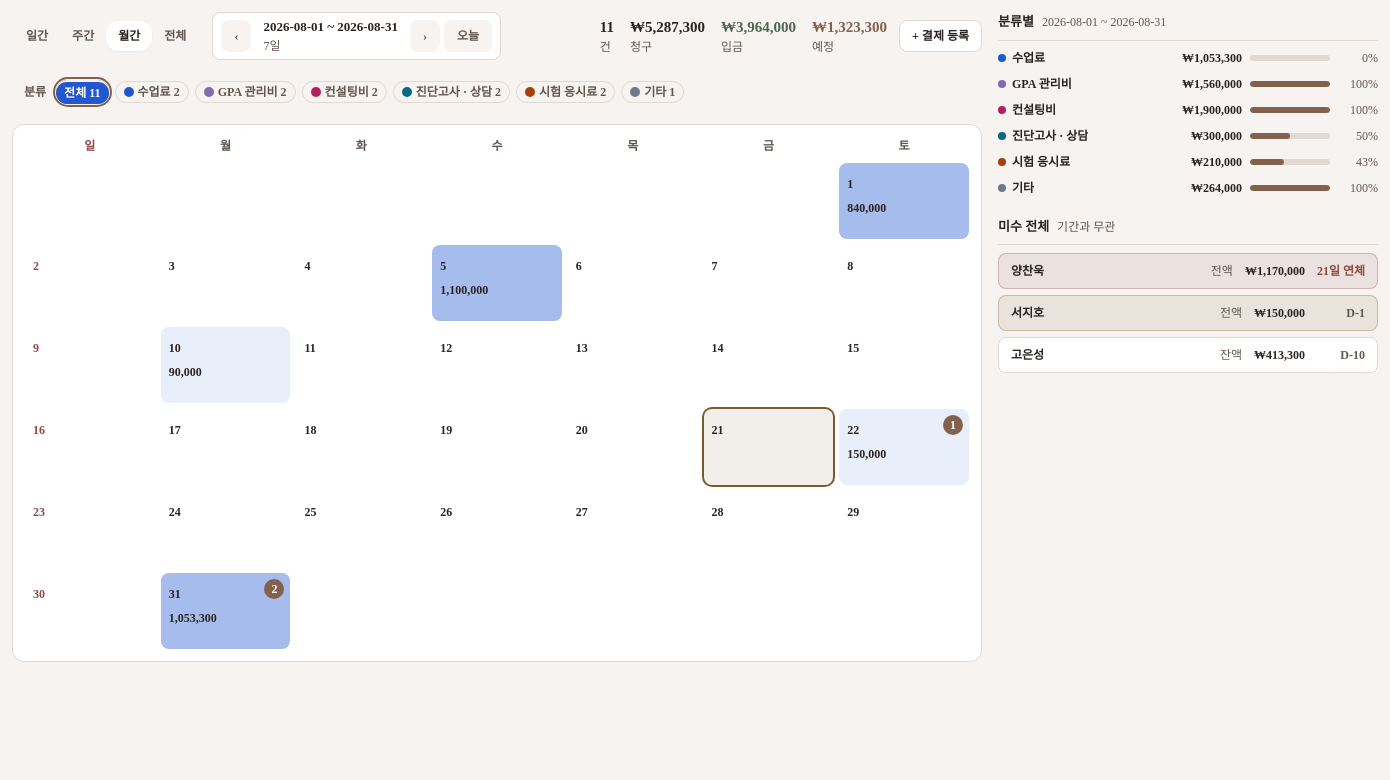
Scenario: ‹ › 오늘 · 일간/주간/전체는 기간만 바꿔 다시 묻는다 — 전체는 달력 없이 합계만 (55-01)
This screenshot has width=1390, height=780.
Click the button named "다음 기간": (425, 36) left=410, top=20, right=440, bottom=52
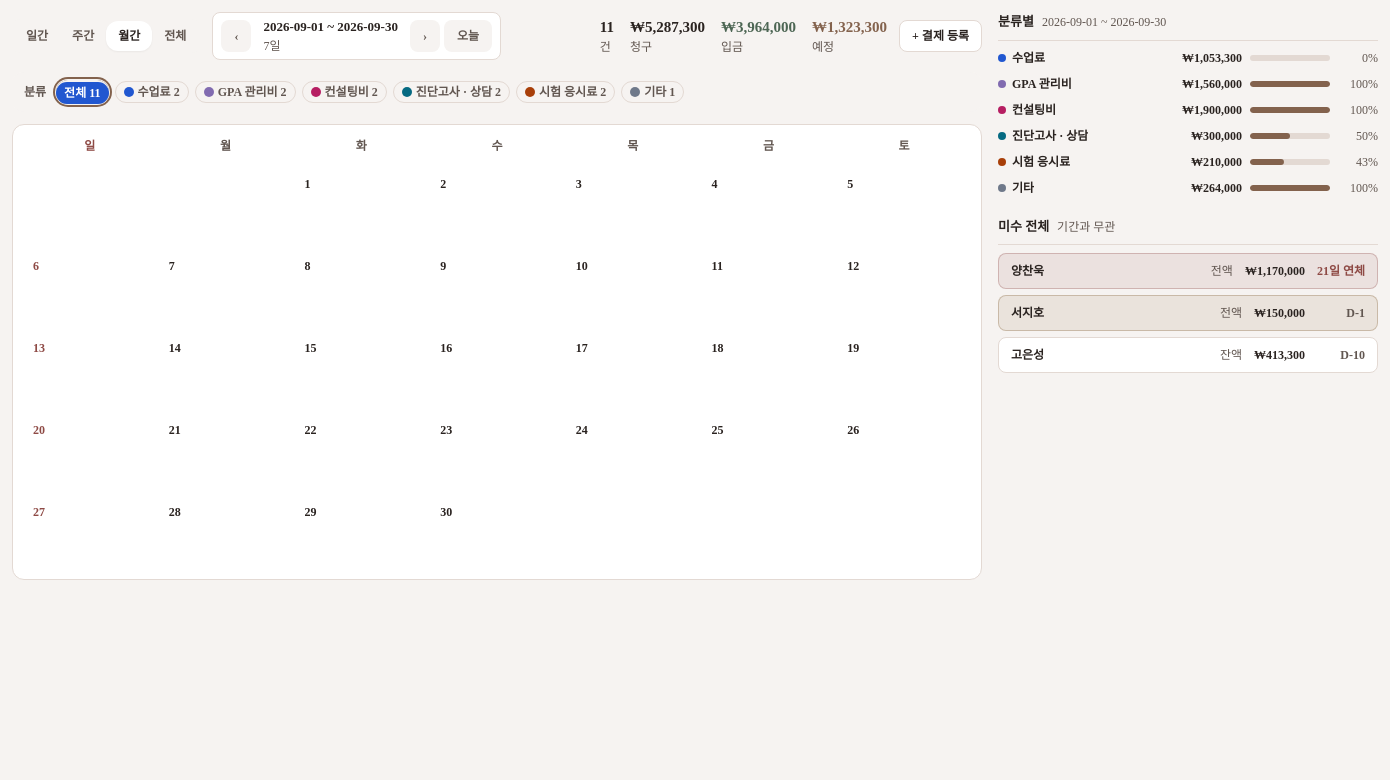
Click the button "오늘": (468, 36) left=444, top=20, right=492, bottom=52
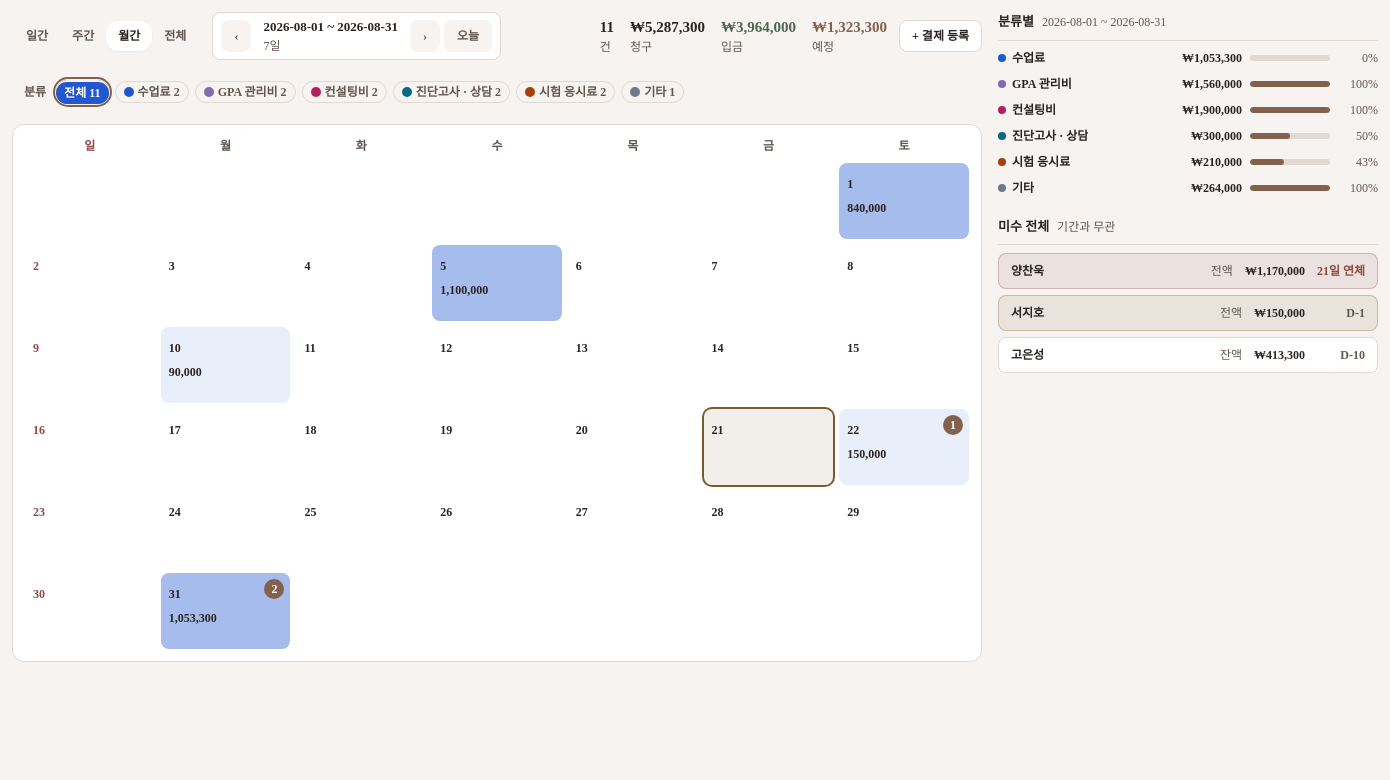
Click the button "주간": (83, 36) left=60, top=21, right=106, bottom=51
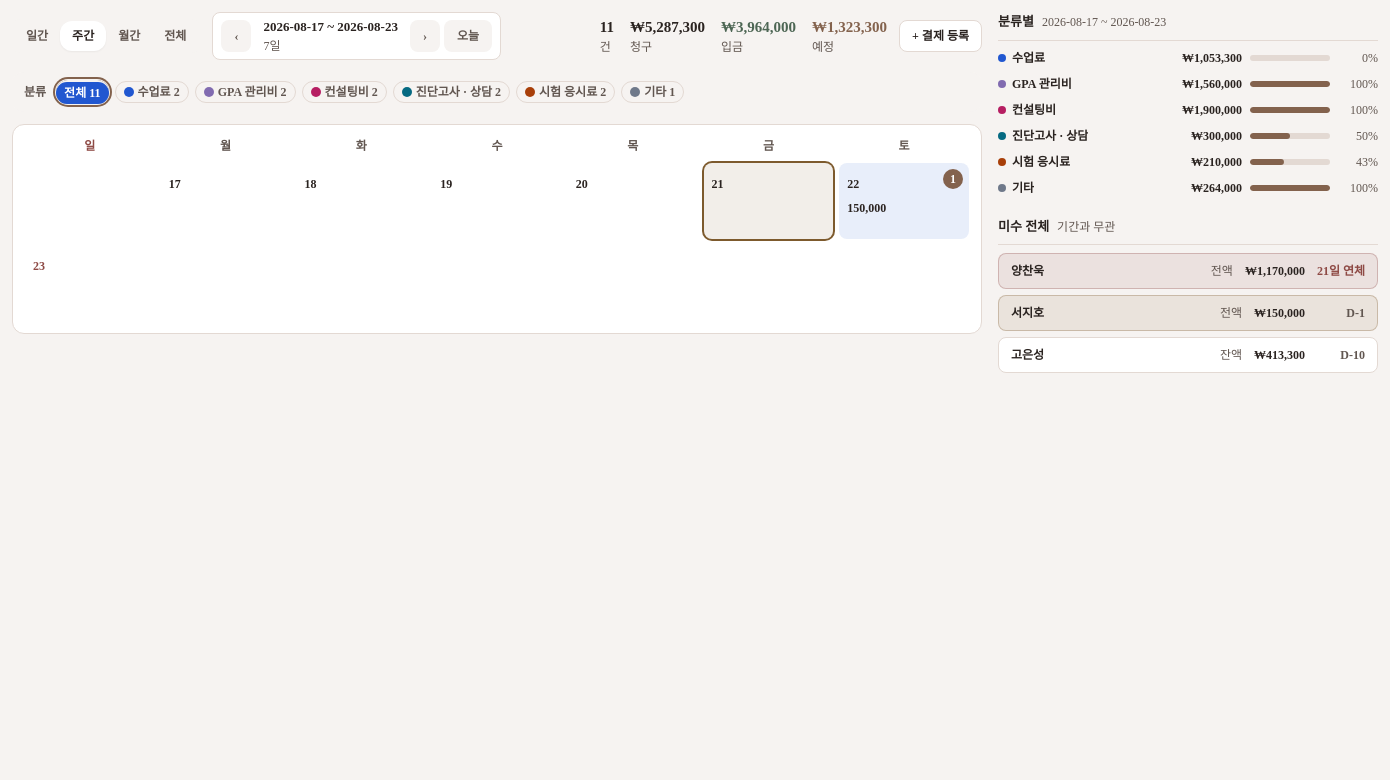
// 주는 월요일부터 — 스케줄 기간과 같은 함수
Click the button named "이전 기간": (236, 36) left=221, top=20, right=251, bottom=52
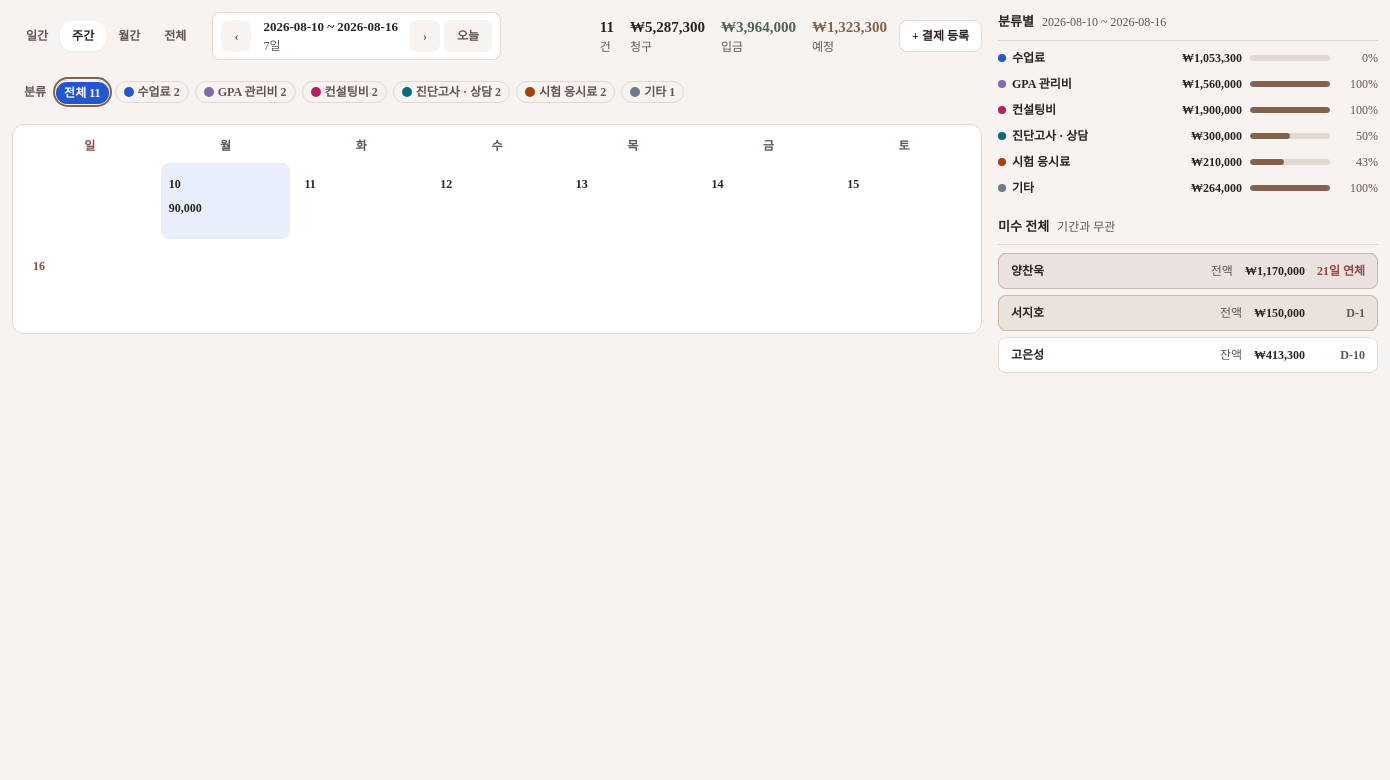
Click the button "일간": (37, 36) left=14, top=21, right=60, bottom=51
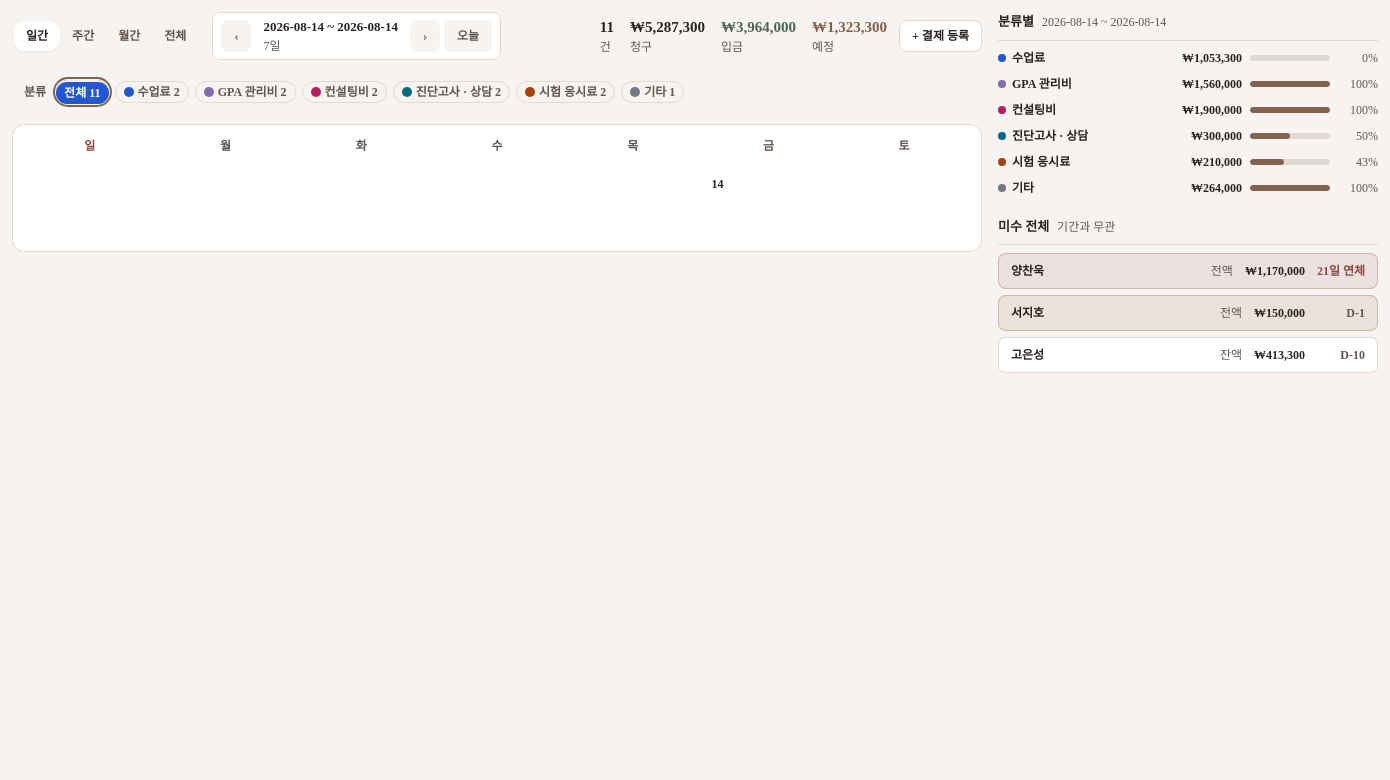
Click the button "전체": (175, 36) left=152, top=21, right=198, bottom=51
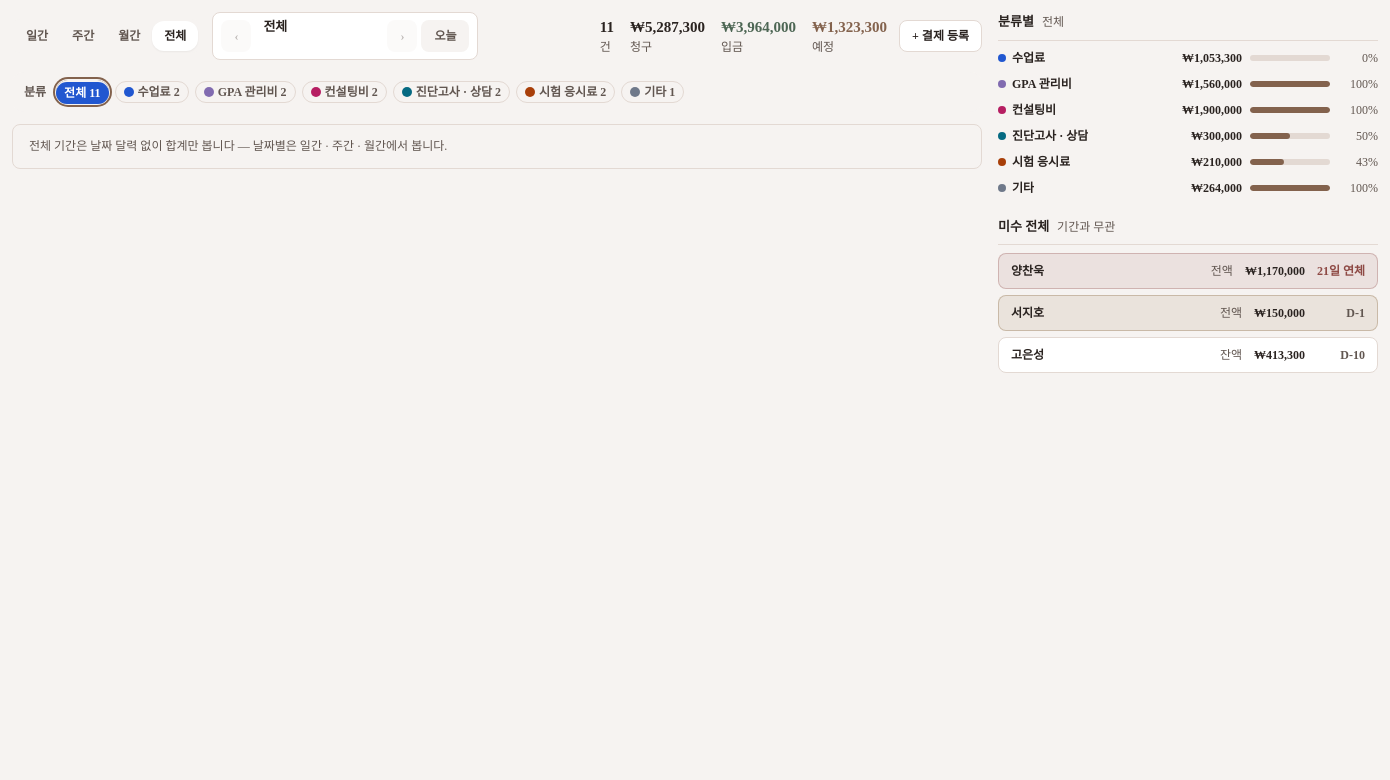
Expected: the button named "이전 기간" is disabled, left=221, top=20, right=251, bottom=52
Result: the text "전체 기간은 날짜 달력 없이 합계만 봅니다 — 날짜별은 일간 · 주간 · 월간에서 봅니다." is shown at left=12, top=124, right=982, bottom=169
Result: the button named "다음 기간" is disabled at left=387, top=20, right=417, bottom=52
